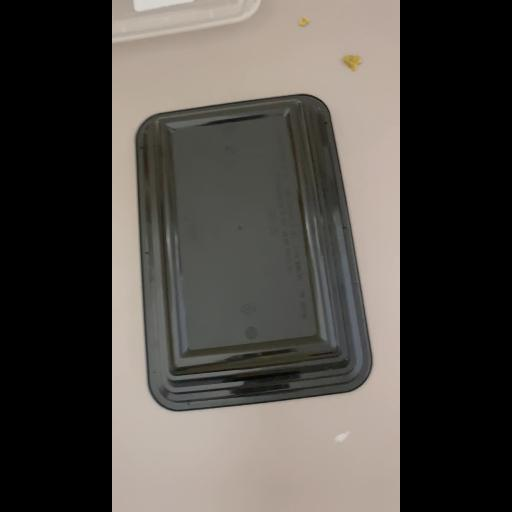rigid_plastic_container: (136, 98, 370, 404)
rigid_plastic_lid: (112, 2, 262, 46)
